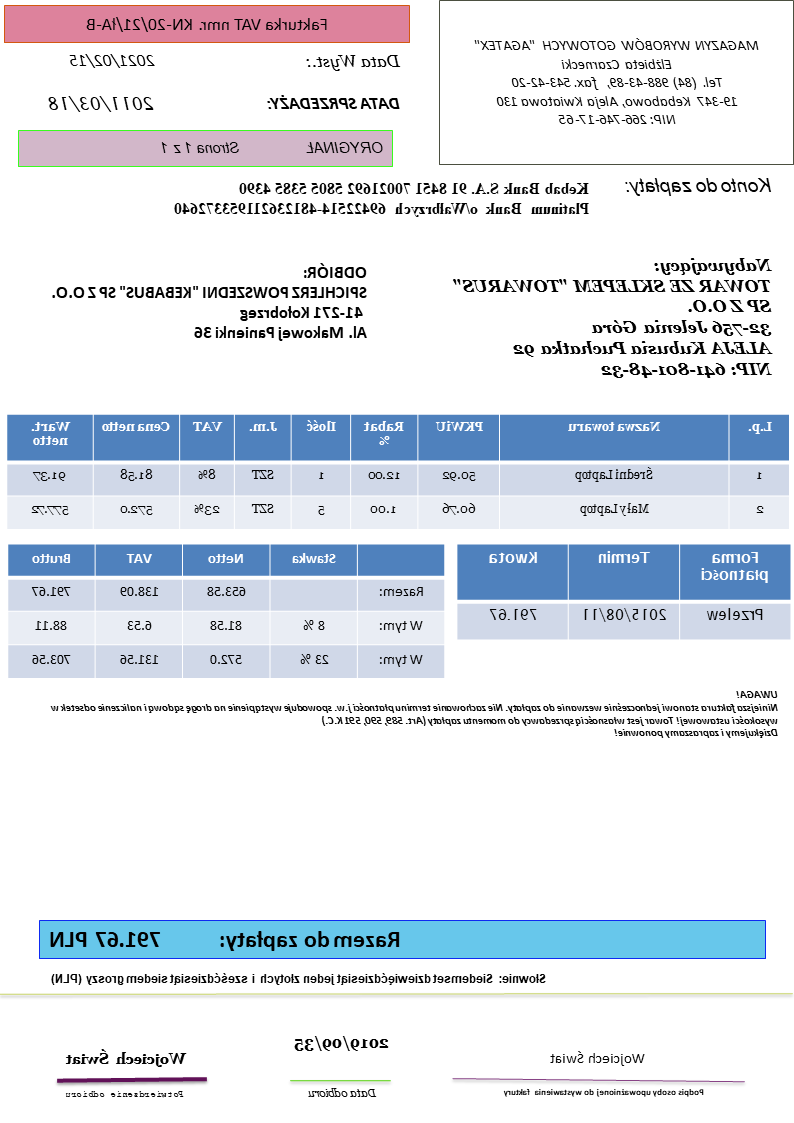Table: (6, 410, 792, 531), (6, 544, 448, 681), (456, 542, 792, 643)
TextBox: (452, 255, 775, 383), (48, 686, 781, 740), (469, 37, 764, 128), (45, 261, 371, 342), (172, 176, 594, 221), (48, 967, 552, 988), (47, 924, 407, 953), (82, 13, 334, 34), (154, 136, 386, 158), (622, 173, 778, 196), (267, 91, 404, 116), (61, 1046, 194, 1070), (499, 1085, 708, 1099), (45, 90, 157, 114), (68, 46, 156, 73), (290, 1032, 394, 1054), (301, 50, 404, 72), (548, 1046, 651, 1068), (63, 1086, 188, 1101), (306, 1082, 379, 1101)
